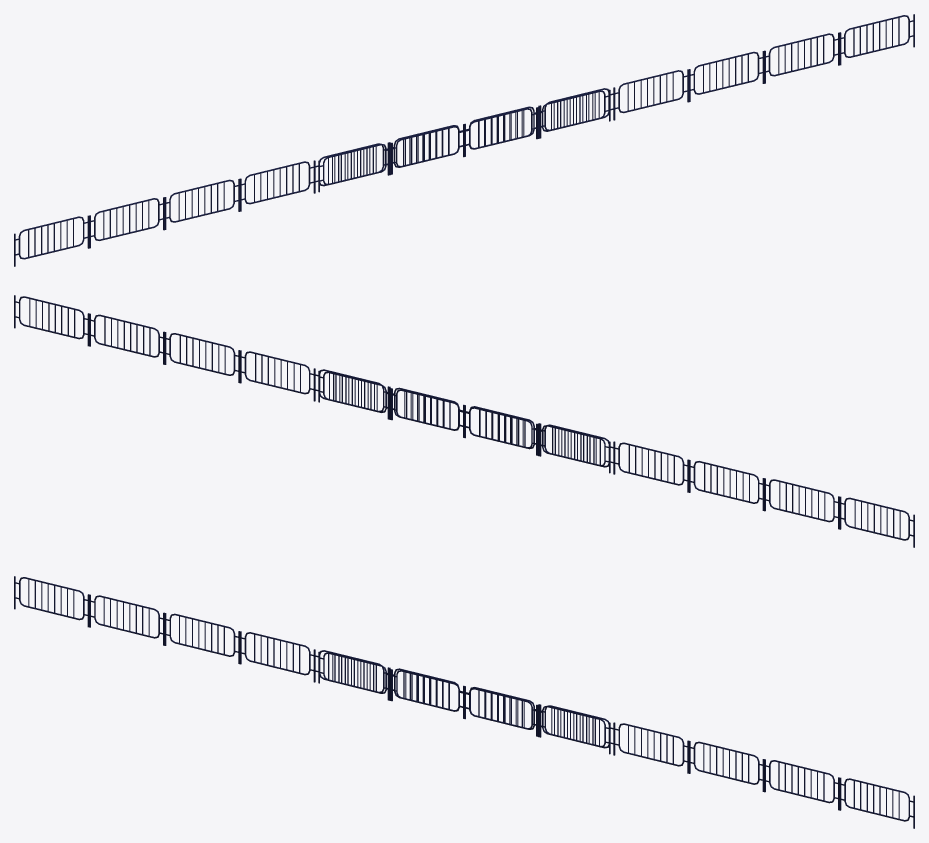
The model's file is SM_fence_row_02.fbx.
3 renders of one model, top to bottom at view 1: azimuth 30°, elevation 25°; view 2: azimuth 150°, elevation 25°; view 3: azimuth 330°, elevation 25°, orthographic.
Parts seen in each view (by area): view 1: Line023, Line020; view 2: Line023, Line020; view 3: Line023, Line020.
Part boxes in pixels (x1=…): Line023: x1=14, y1=14, x2=914, y2=266; Line020: x1=318, y1=89, x2=610, y2=192; Line023: x1=14, y1=295, x2=914, y2=547; Line020: x1=318, y1=370, x2=610, y2=473; Line023: x1=14, y1=576, x2=914, y2=828; Line020: x1=318, y1=651, x2=610, y2=754.
Size of the model in its own units: 1141 by 41.36 by 1.89.
